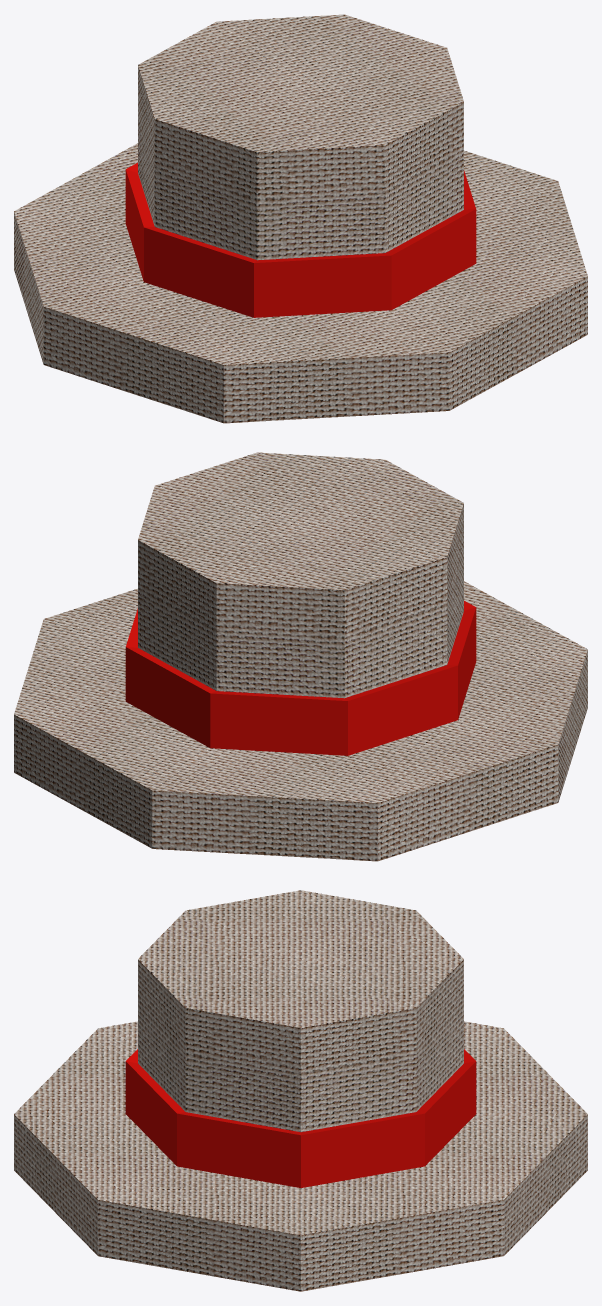
Rendered from Sombrero.glb.
The picture shows the model from 3 angles, top to bottom: view 1: azimuth 30°, elevation 25°; view 2: azimuth 150°, elevation 25°; view 3: azimuth 270°, elevation 25°; orthographic projection. The views are drawn at different scales.
Visible parts, largest first — view 1: Cube; view 2: Cube; view 3: Cube.
Boxes of the visible parts, x1,y1,x2,y2 form: Cube: (14,14,587,423); Cube: (14,452,587,861); Cube: (14,890,587,1291).
Size of the model in its own units: 3.08 by 1.25 by 3.08.
2 materials, 1 textured.
